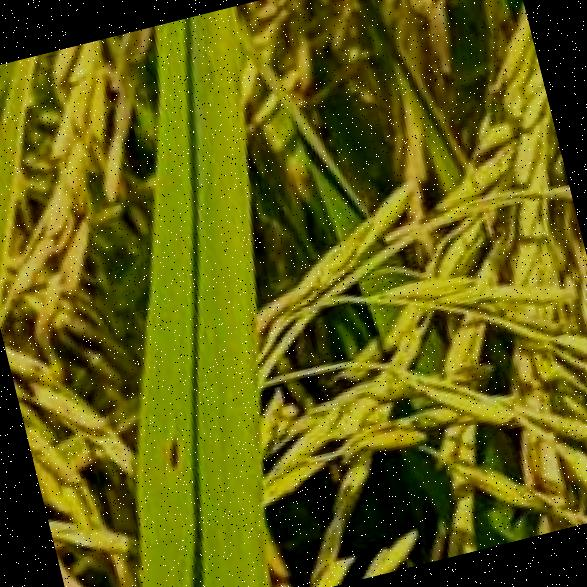Brown_Spot: (147, 425, 191, 476)
